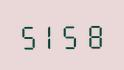eight: (84, 19, 105, 49)
five: (18, 20, 39, 50), (62, 19, 83, 49)
one: (40, 20, 61, 50)
